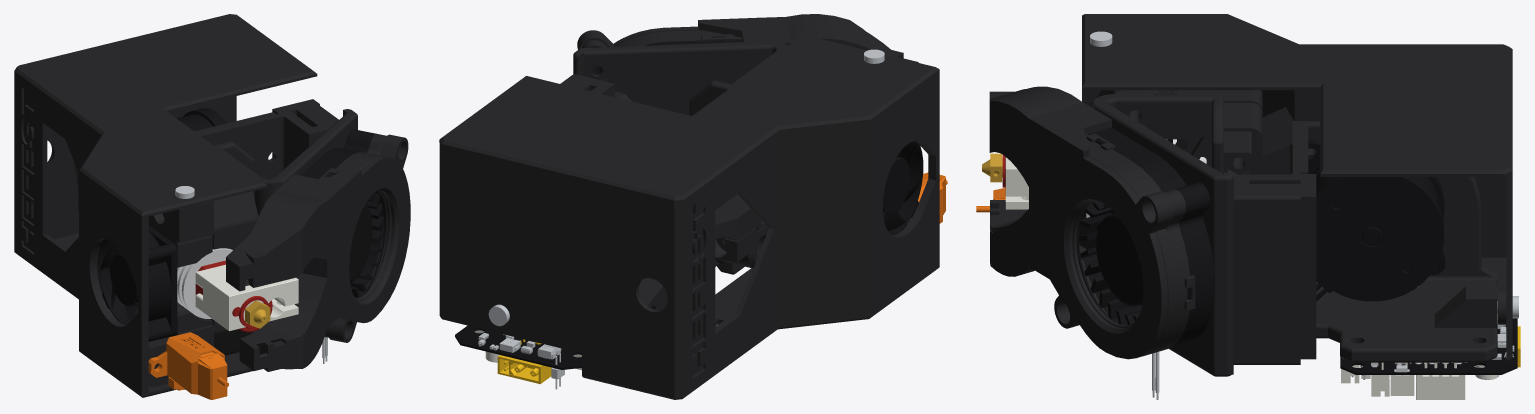
File: hefest_head.glb
3 renders of one model, left to right at view 1: azimuth 30°, elevation 25°; view 2: azimuth 150°, elevation 25°; view 3: azimuth 270°, elevation 25°, orthographic. The views are drawn at different scales.
Parts seen in each view (by area): view 1: head_cover, head_duct, head_fans, head_frame_v3, head_hotend_mount_2_probe, head_microprobe, head_chc_heater, head_hotend_mount_1, head_triangle, head_chc_heatsink, head_nema14, head_chc_sock (+1 smaller); view 2: head_cover, head_triangle, head_duct, head_fans, head_hotend_mount_1, head_ebb42_gen2_pcb, head_minifeeder, head_ebb42_gen2_small, head_ebb42_gen2_xt30, head_frame_v3, head_cover_screws, head_microprobe; view 3: head_cover, head_frame_v3, head_duct, head_nema14, head_triangle, head_fans, head_hotend_mount_1, head_belt_cover, head_ebb42_gen2_connectors, head_ebb42_gen2_pcb, head_hotend_mount_2_probe, head_chc_heater (+3 smaller).
Part boxes in pixels (<box>): head_cover: <box>14,14,317,397</box>; head_duct: <box>226,134,410,371</box>; head_fans: <box>98,129,386,341</box>; head_frame_v3: <box>194,104,338,179</box>; head_hotend_mount_2_probe: <box>148,201,213,387</box>; head_microprobe: <box>148,332,228,399</box>; head_chc_heater: <box>195,264,298,331</box>; head_hotend_mount_1: <box>78,191,258,355</box>; head_triangle: <box>214,109,357,216</box>; head_chc_heatsink: <box>177,248,232,318</box>; head_nema14: <box>177,108,226,131</box>; head_chc_sock: <box>195,260,272,332</box>; head_cover: <box>439,34,939,399</box>; head_triangle: <box>573,41,787,274</box>; head_duct: <box>577,14,918,62</box>; head_fans: <box>590,36,923,235</box>; head_hotend_mount_1: <box>640,225,768,309</box>; head_ebb42_gen2_pcb: <box>455,325,581,369</box>; head_minifeeder: <box>646,194,766,291</box>; head_ebb42_gen2_small: <box>478,333,564,389</box>; head_ebb42_gen2_xt30: <box>497,339,551,384</box>; head_frame_v3: <box>560,74,654,296</box>; head_cover_screws: <box>488,49,884,326</box>; head_microprobe: <box>918,172,947,223</box>; head_cover: <box>1082,14,1512,360</box>; head_frame_v3: <box>1233,121,1497,364</box>; head_duct: <box>989,86,1195,359</box>; head_nema14: <box>1308,139,1445,301</box>; head_triangle: <box>1094,91,1251,376</box>; head_fans: <box>1076,127,1214,349</box>; head_hotend_mount_1: <box>1097,90,1293,174</box>; head_belt_cover: <box>1300,174,1316,359</box>; head_ebb42_gen2_connectors: <box>1341,362,1499,399</box>; head_ebb42_gen2_pcb: <box>1340,318,1517,374</box>; head_hotend_mount_2_probe: <box>1087,90,1262,110</box>; head_chc_heater: <box>1005,157,1028,209</box>.
Size of the model in its own units: 104 by 75.32 by 138.
